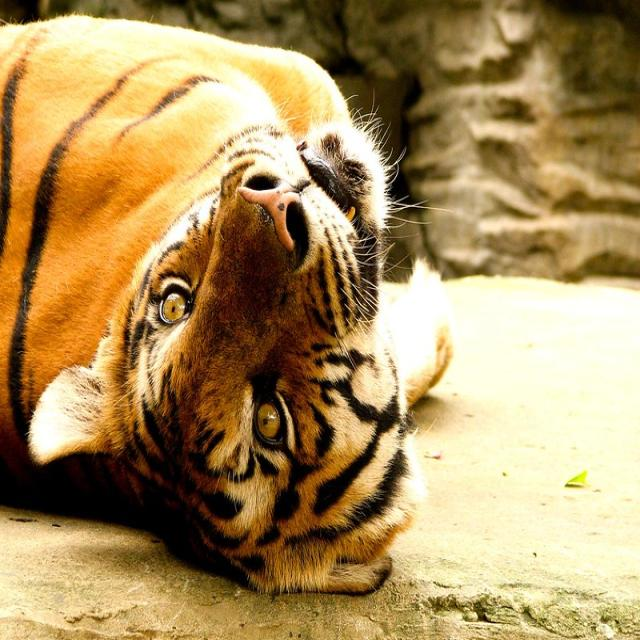Tiger: (0, 2, 457, 597)
